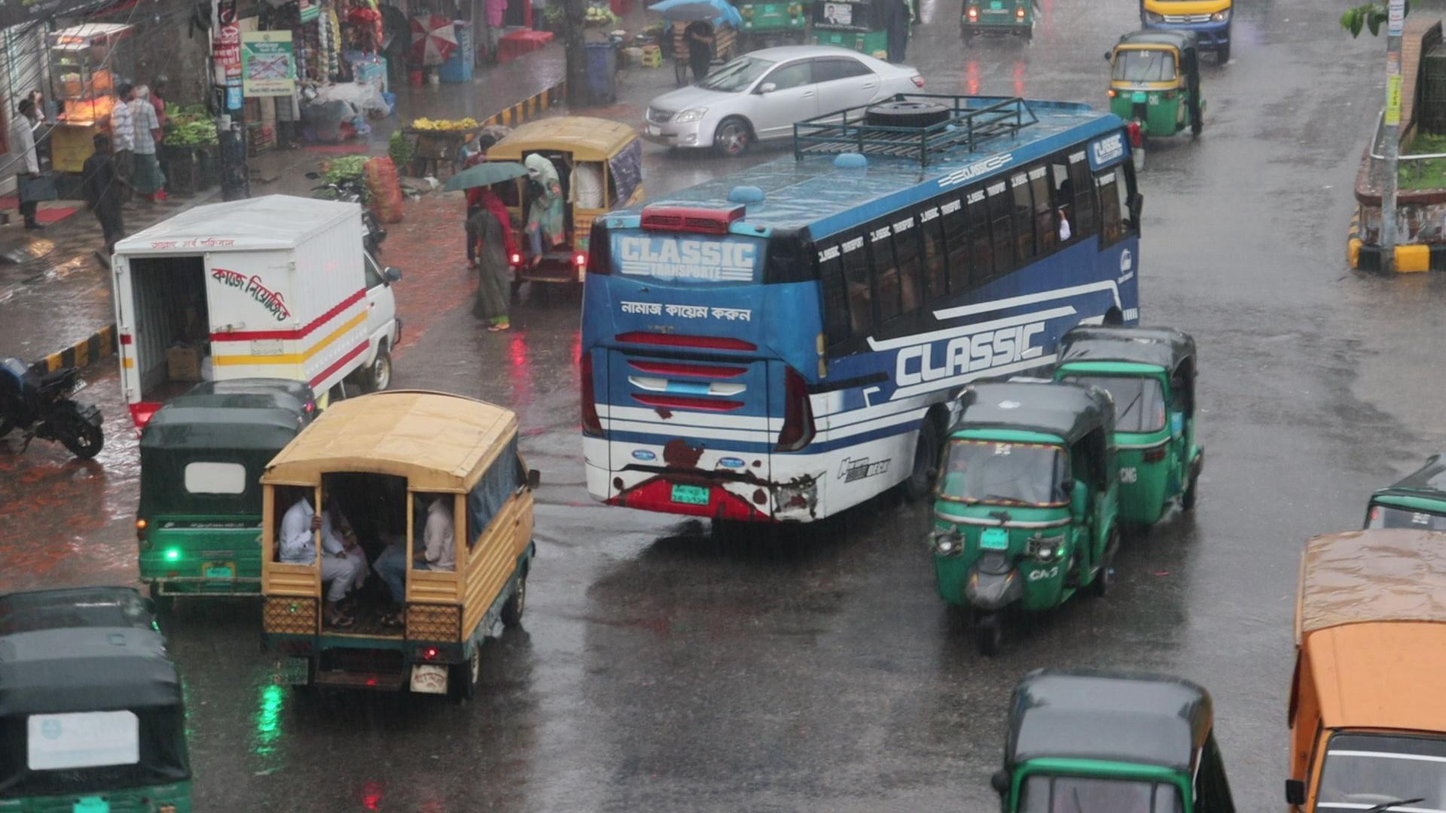Bus: (581, 81, 1145, 546)
Car: (638, 23, 930, 160)
Truck: (247, 381, 551, 716), (473, 120, 648, 283)
